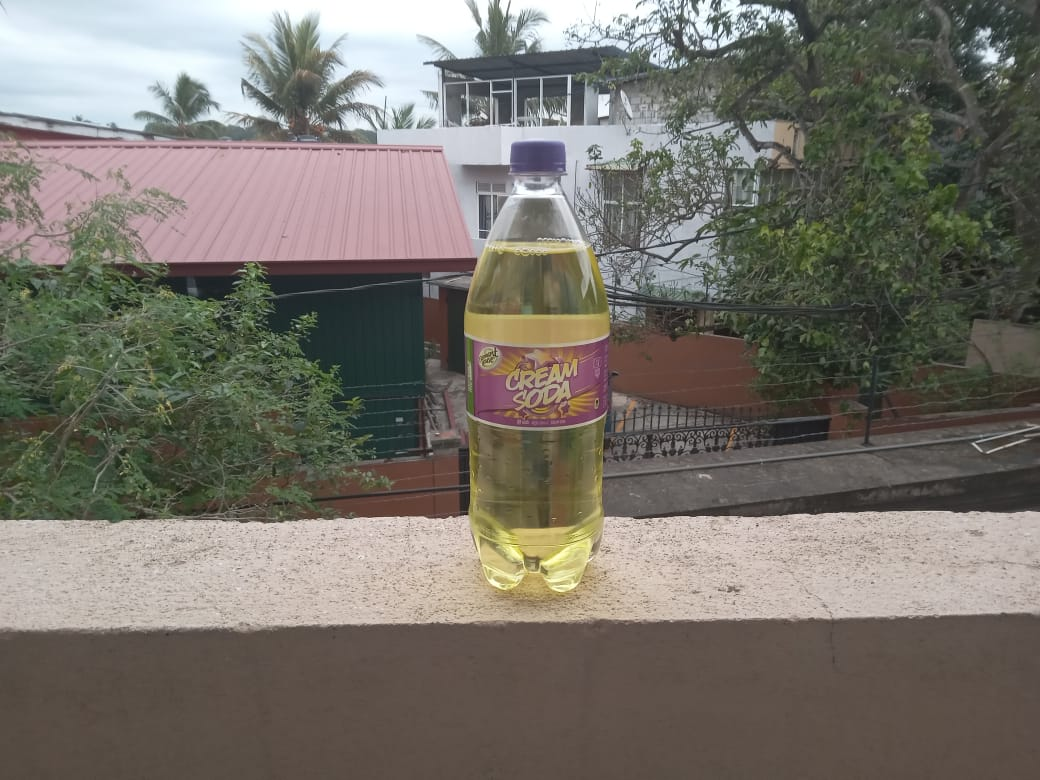M: (457, 138, 615, 604)
